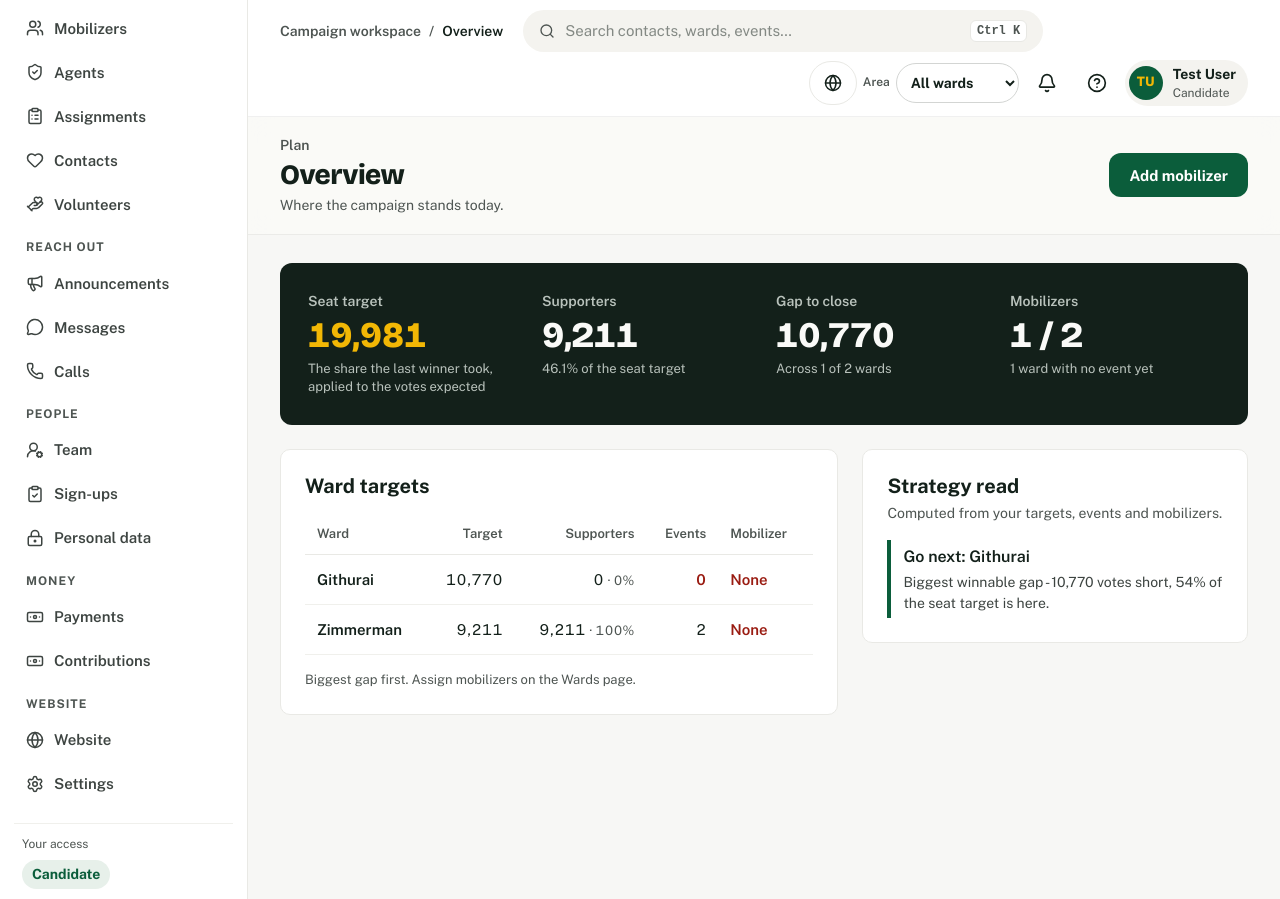
the team page › offers the aspirant Add manager when there is none, and adds without replacing
(page scrolled)
Click the link "Team".
click(59, 450)  # box [26,441,92,459]
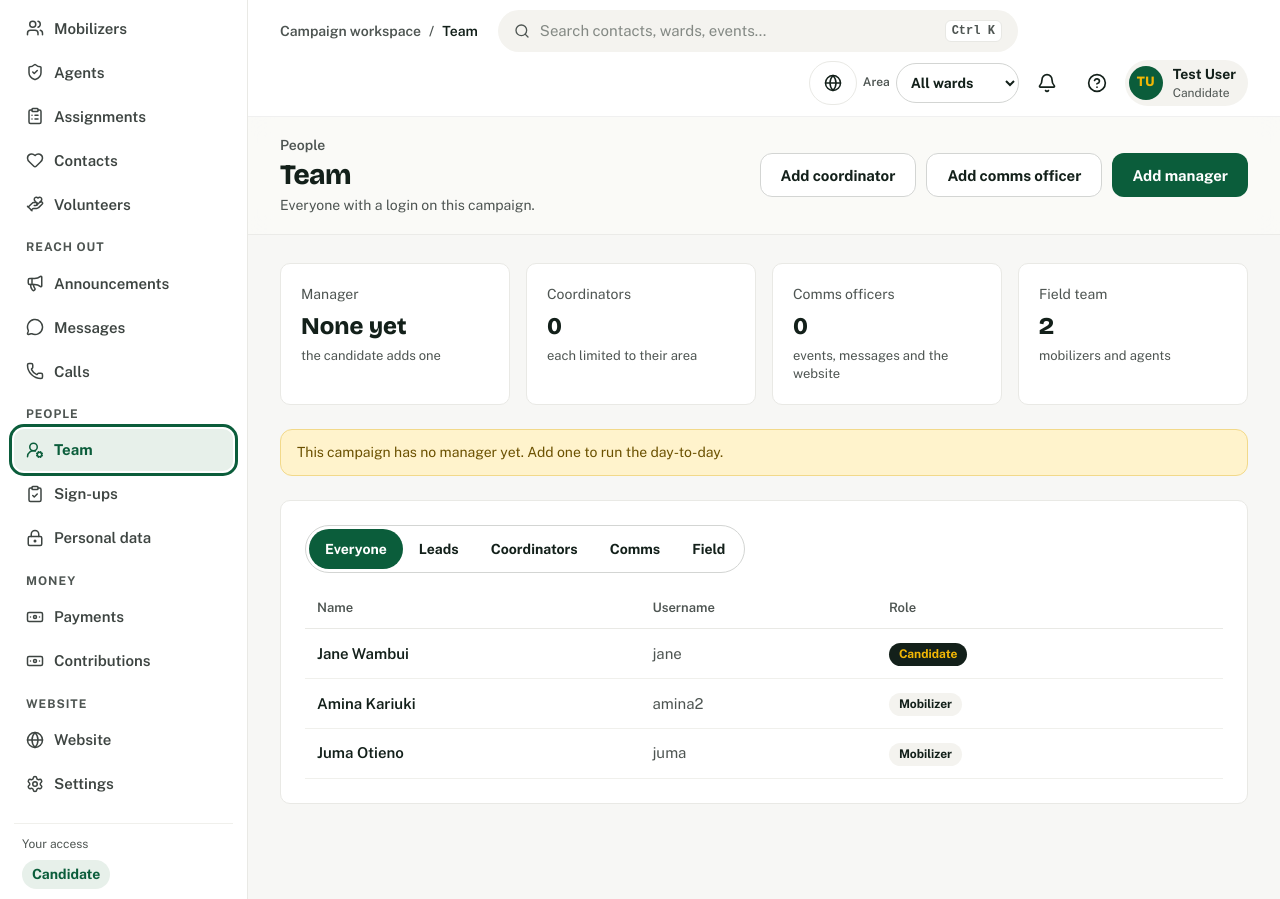
expect the text "Amina Kariuki" is shown: met, box [305,678,640,728]
Click the button "Add manager".
click(1180, 175)  # box [1112,153,1248,197]
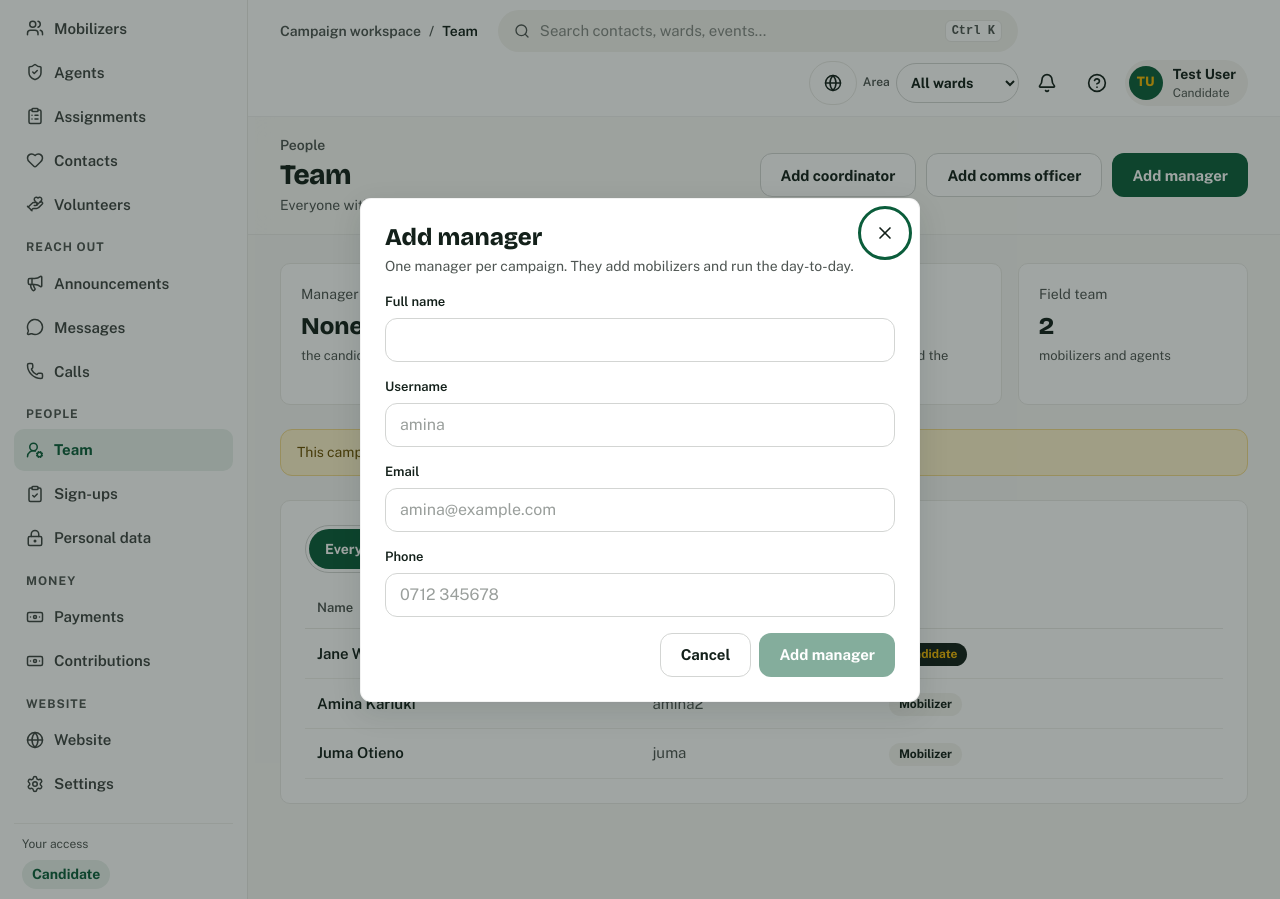
Type "Wanjiru" into the field labelled "Full name".
click(640, 340); type("Wanjiru")  # box [385,318,895,362]
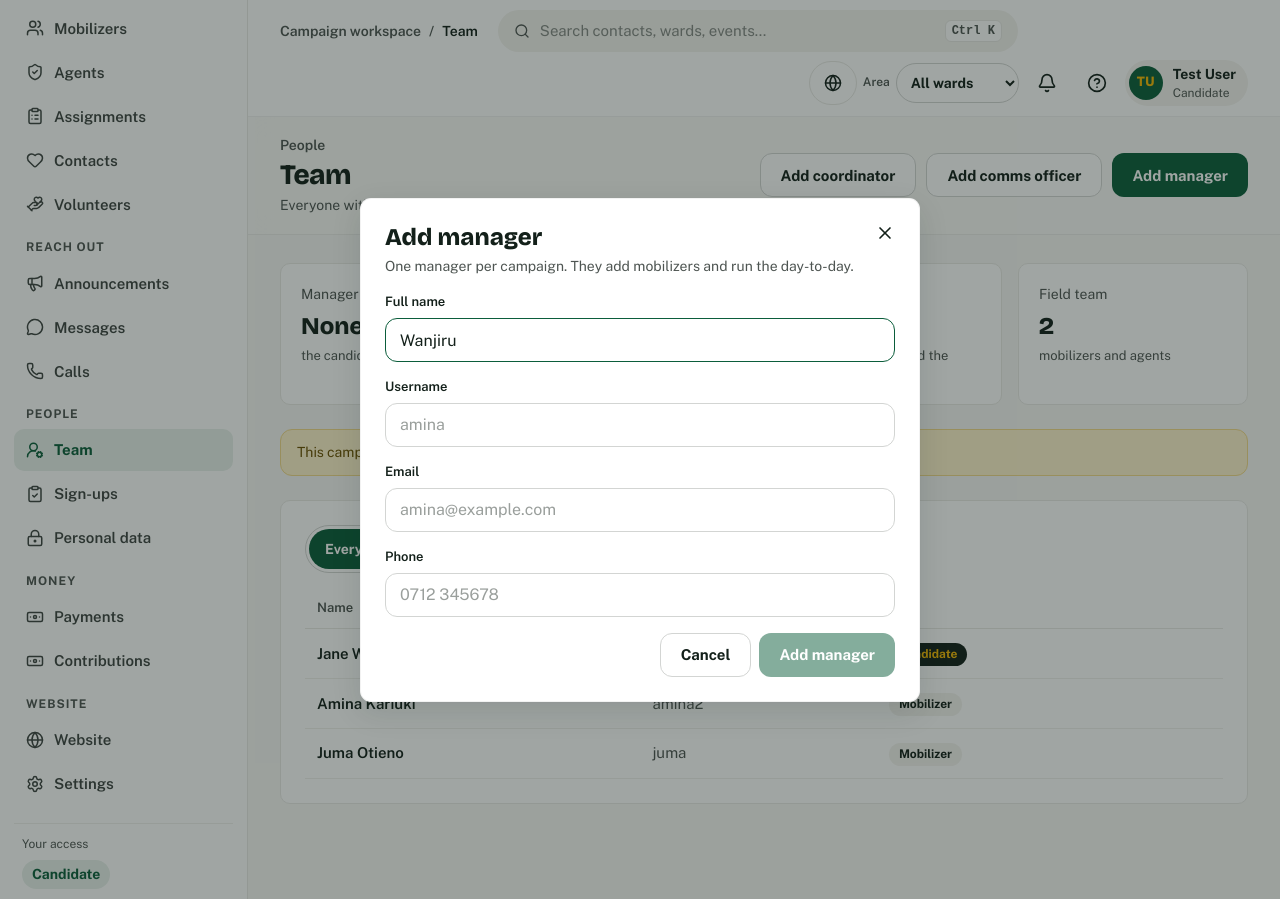
Type "wanjiru" into the field labelled "Username".
click(640, 425); type("wanjiru")  # box [385,403,895,447]
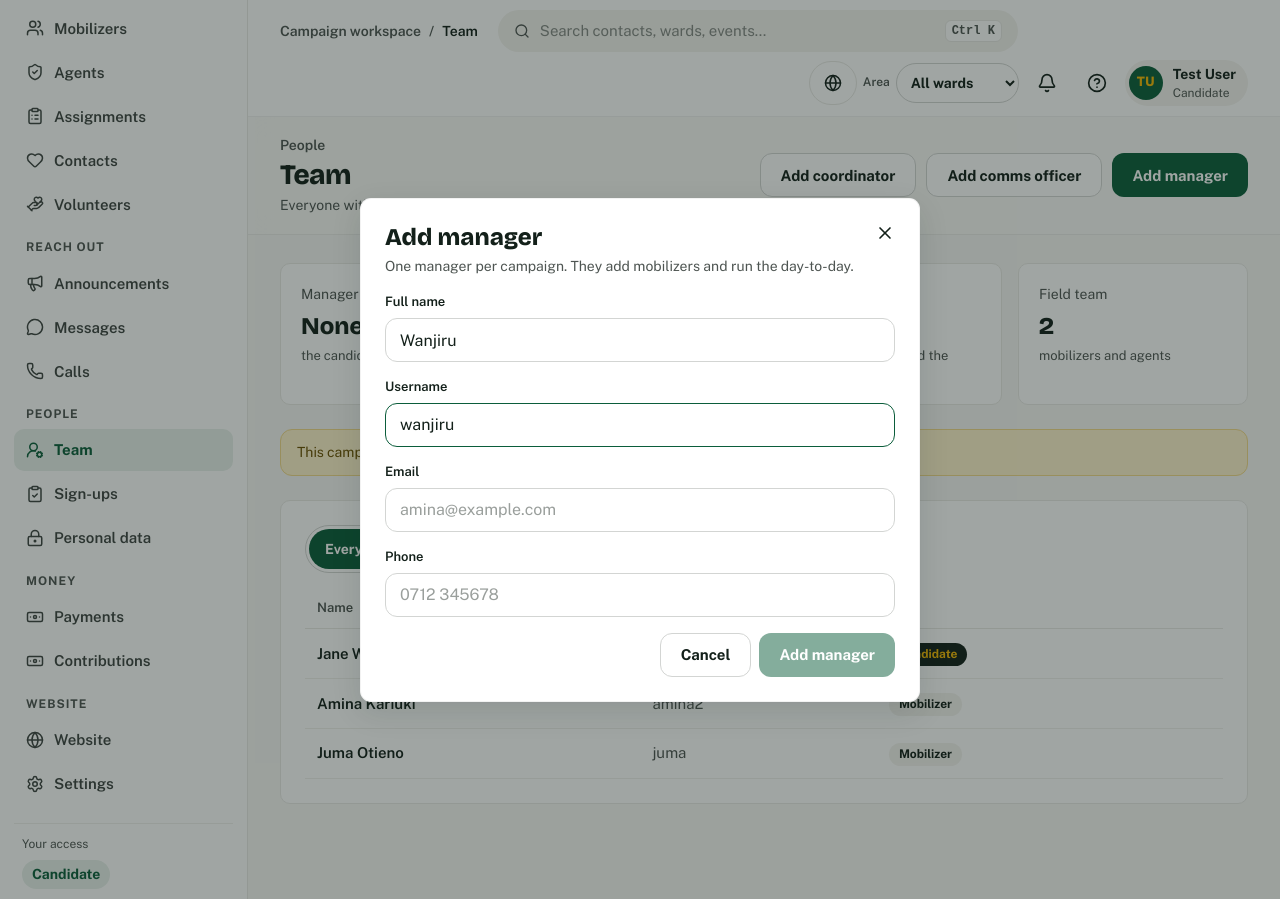
Type "wanjiru@example.com" into the field labelled "Email".
click(640, 510); type("wanjiru@example.com")  # box [385,488,895,532]
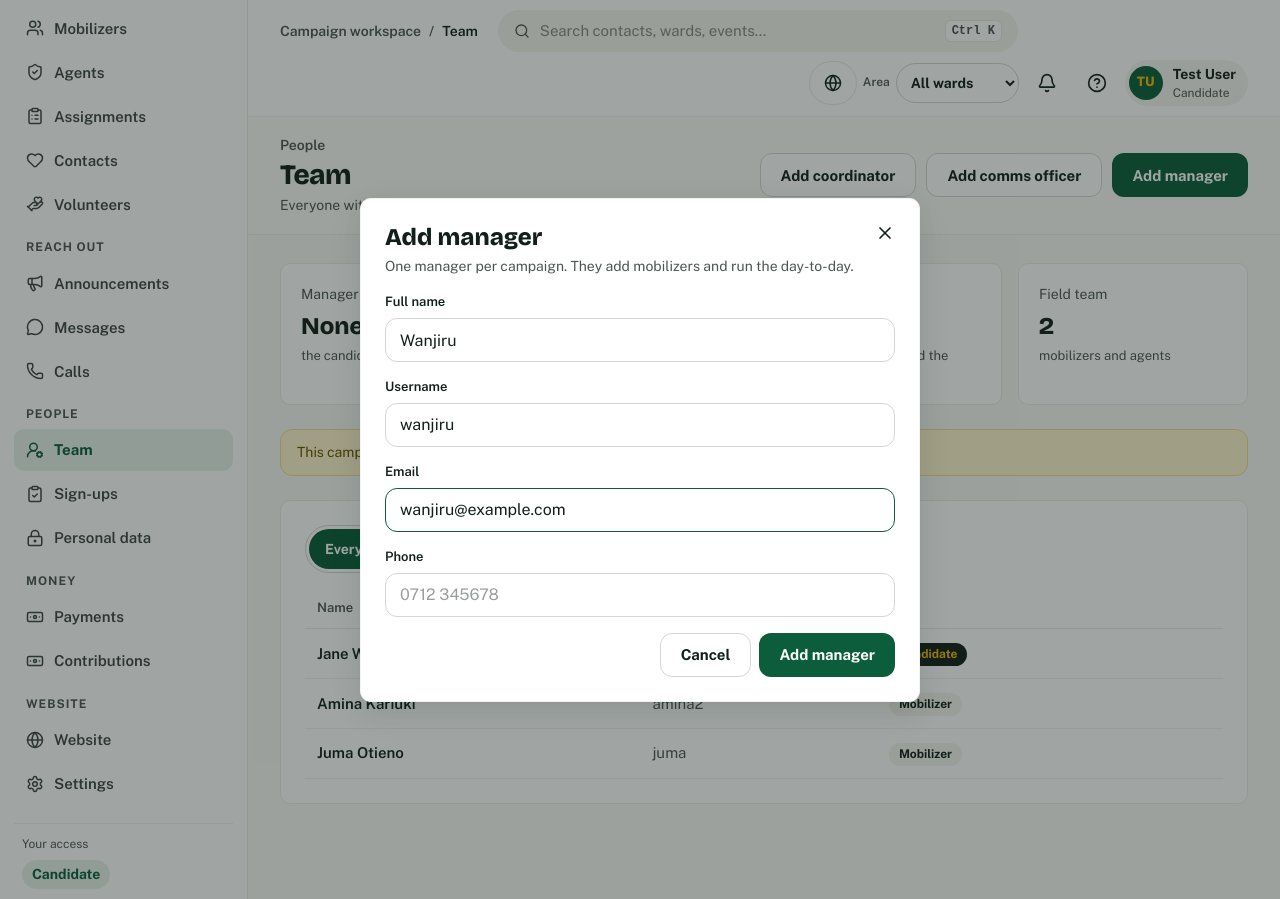
Click the button "Add manager".
click(827, 655)  # box [759,633,895,677]
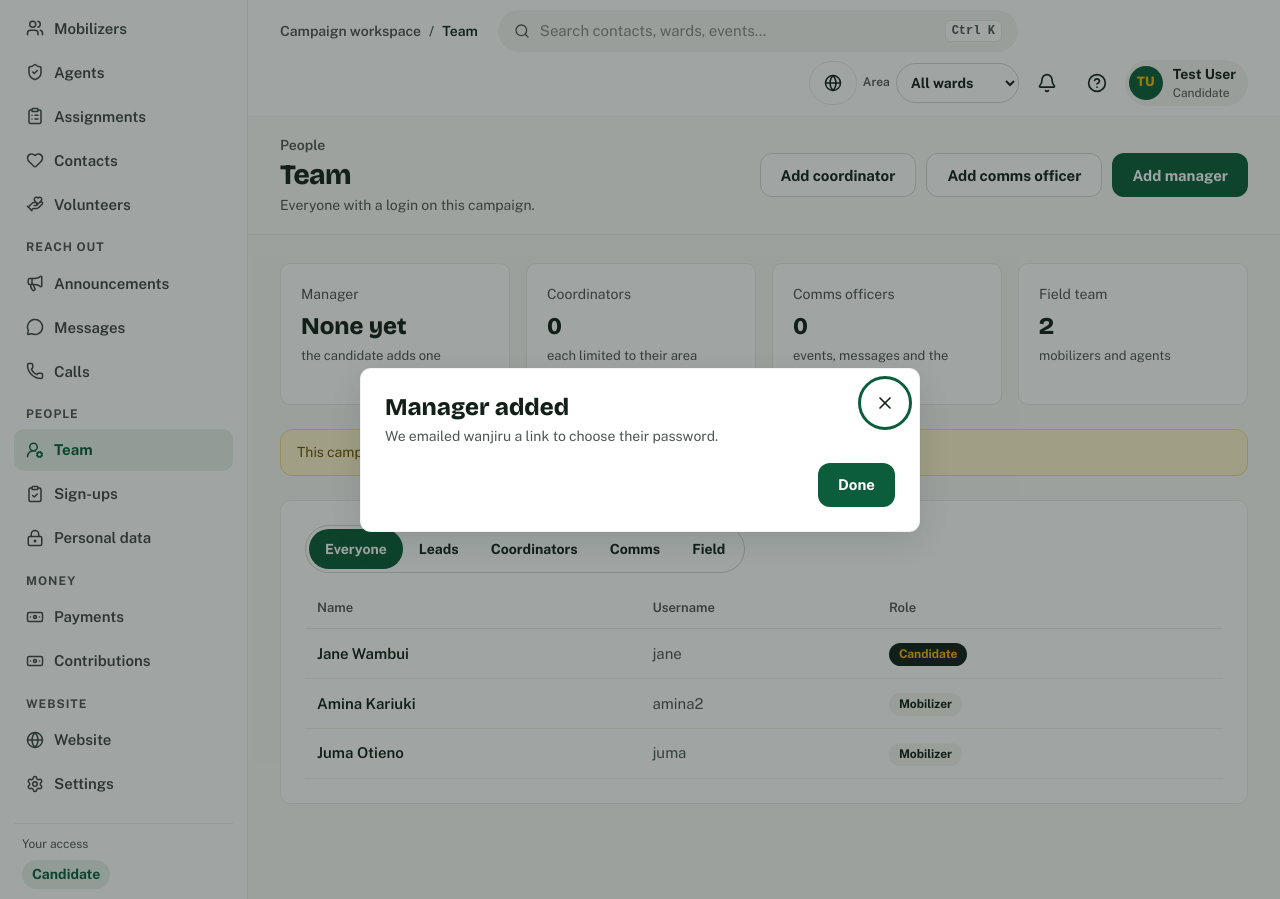
expect the heading "Manager added" is shown: met, box [385,393,569,421]
